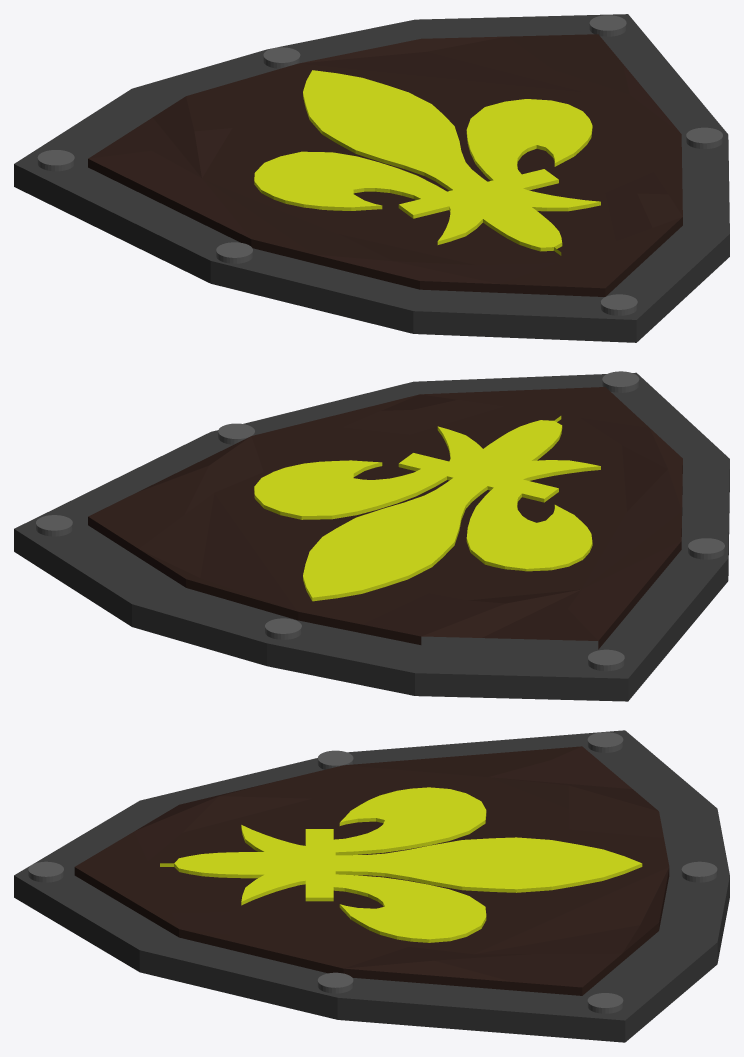
The model's file is bouclier.glb.
3 renders of one model, top to bottom at view 1: azimuth 30°, elevation 25°; view 2: azimuth 150°, elevation 25°; view 3: azimuth 270°, elevation 25°, orthographic. The views are drawn at different scales.
Visible parts, largest first — view 1: Cylindre.005; view 2: Cylindre.005; view 3: Cylindre.005.
Part boxes in pixels (x1,y1,x2,y2): Cylindre.005: [14, 14, 729, 342]; Cylindre.005: [14, 371, 729, 701]; Cylindre.005: [14, 730, 729, 1042].
Size of the model in its own units: 0.8211 by 0.0514 by 0.8559.
